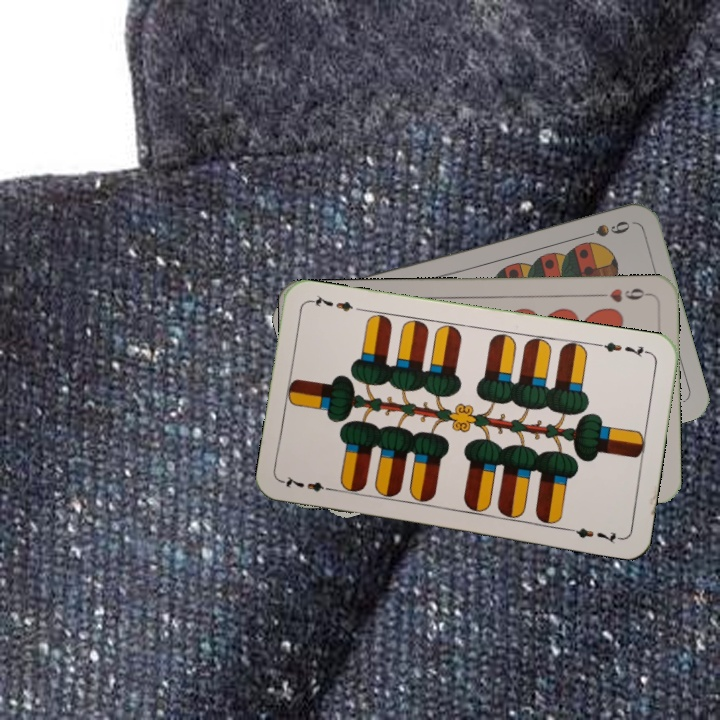E7: (280, 472, 339, 495), (594, 338, 653, 360)
H9: (593, 284, 652, 305)
S9: (575, 217, 633, 242)
